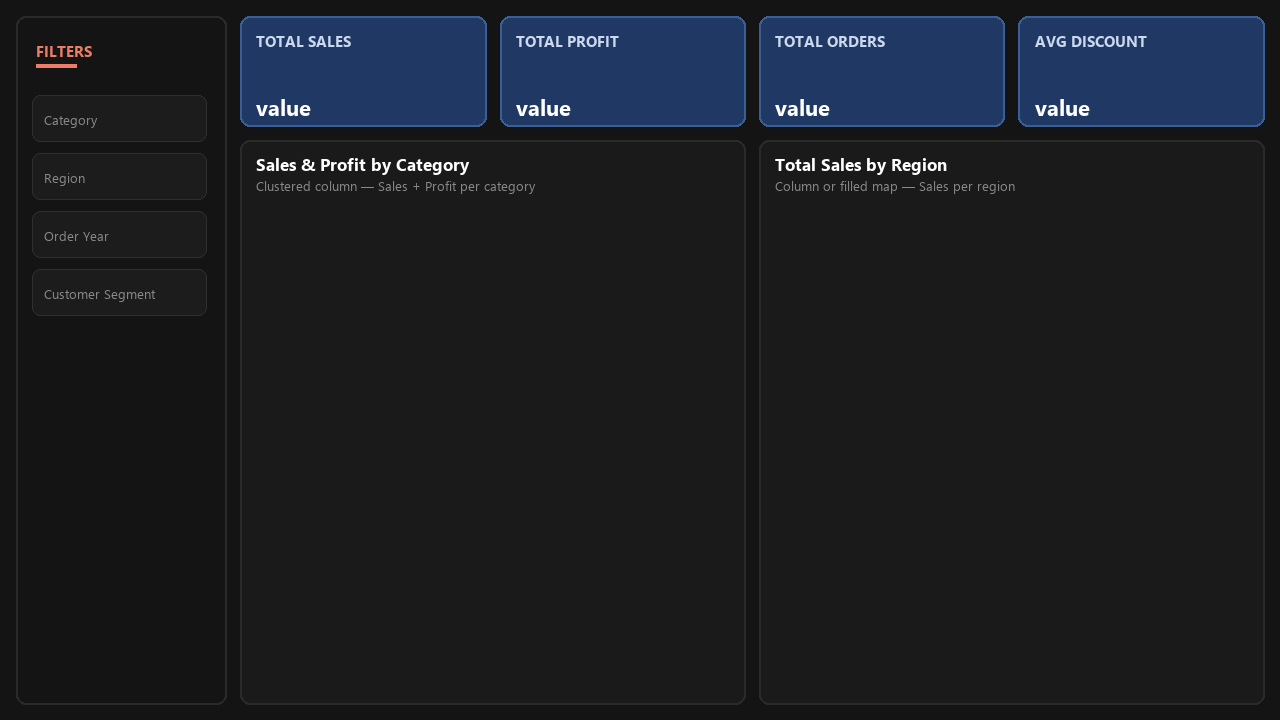

The page's visual inventory and layout, read from the dashboard file:
{"tool":"powerbi","page":{"name":"Executive Summary","canvas":[1280,720],"ordinal":0},"visuals":[{"type":"shape","box":[21.7,11.7,1236.7,63.3],"z":0},{"type":"cardVisual","fields":{"Data":["Sum(Orders.Discount)"]},"box":[1340.4,181.1,372.6,152.7],"z":1000},{"type":"cardVisual","fields":{"Data":["Sum(Orders.Sales)"]},"box":[21.7,86.7,301.7,135],"z":2000},{"type":"cardVisual","fields":{"Data":["Sum(Orders.Profit)"]},"box":[335,86.7,290,135],"z":3000},{"type":"cardVisual","fields":{"Data":["Count(Orders.Order ID)"]},"box":[636.7,86.7,311.7,135],"z":4000},{"type":"cardVisual","fields":{"Data":["Avg(Orders.Discount)"]},"box":[956.7,86.7,301.7,135],"z":5000},{"type":"clusteredColumnChart","fields":{"Category":["Orders.Category"],"Y":["Sum(Orders.Sales)","Sum(Orders.Profit)"]},"box":[21.7,235,603.3,468.3],"z":6000},{"type":"clusteredColumnChart","fields":{"Category":["Orders.Region"],"Y":["Sum(Orders.Sales)"]},"box":[636.7,235,621.7,468.3],"z":7000},{"type":"textbox","box":[34.5,18.2,650.9,68.2],"z":8000},{"type":"slicer","fields":{"Values":["Orders.Category"]},"box":[864.5,29.1,91.8,47.3],"z":9000},{"type":"slicer","fields":{"Values":["Orders.Region"]},"box":[956.4,29.1,91.8,47.3],"z":10000},{"type":"slicer","fields":{"Values":["Customer_Clusters.SegmentName"]},"box":[1140,29.1,91.8,47.3],"z":11000},{"type":"slicer","fields":{"Values":["Orders.Order Date.Variation.Date Hierarchy.Year"]},"box":[1047.5,28.8,91.8,47.3],"z":12000}]}

Visuals, with their boxes in screenshot pixels (x1, y1, x2, y2), scaled from the page's 1280x720 canvas onto the 1280x720 screenshot:
shape: box(22, 12, 1258, 75)
cardVisual - Sum(Orders.Sales): box(22, 87, 323, 222)
cardVisual - Sum(Orders.Profit): box(335, 87, 625, 222)
cardVisual - Count(Orders.Order ID): box(637, 87, 948, 222)
cardVisual - Avg(Orders.Discount): box(957, 87, 1258, 222)
clusteredColumnChart - Orders.Category x Sum(Orders.Sales): box(22, 235, 625, 703)
clusteredColumnChart - Orders.Region x Sum(Orders.Sales): box(637, 235, 1258, 703)
textbox: box(34, 18, 685, 86)
slicer - Orders.Category: box(864, 29, 956, 76)
slicer - Orders.Region: box(956, 29, 1048, 76)
slicer - Customer_Clusters.SegmentName: box(1140, 29, 1232, 76)
slicer - Orders.Order Date.Variation.Date Hierarchy.Year: box(1048, 29, 1139, 76)
